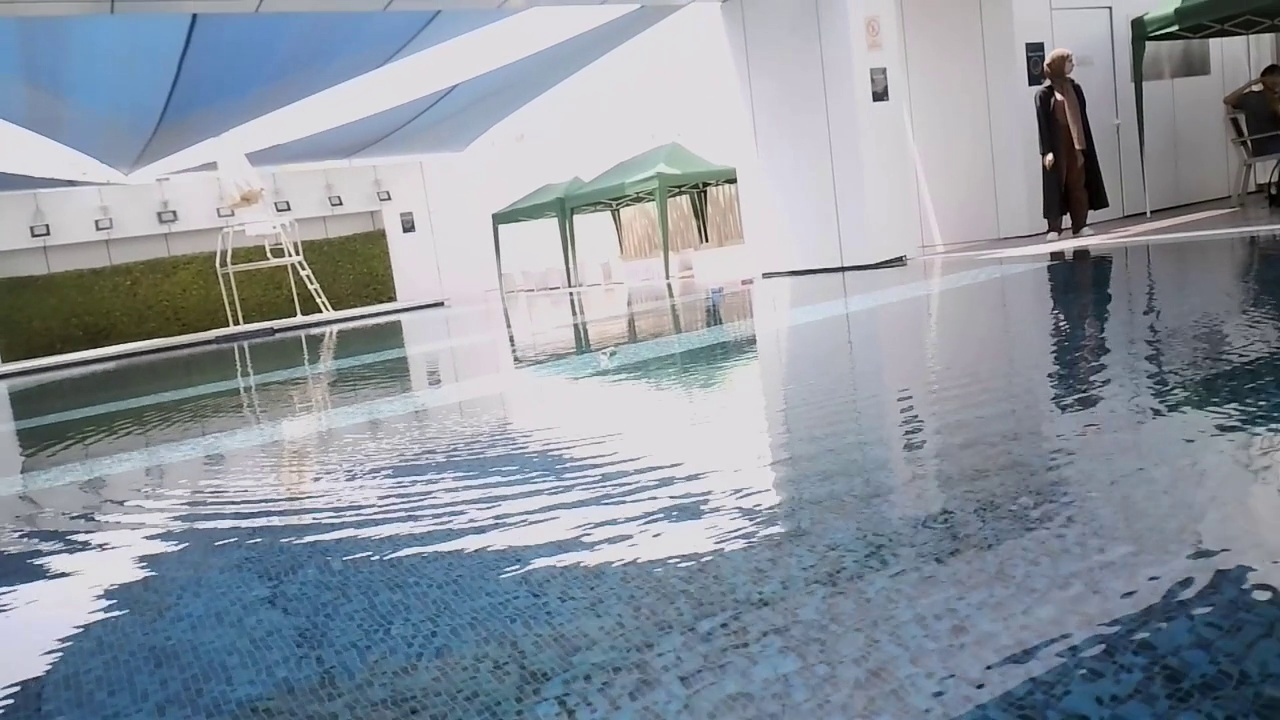debris: (598, 342, 619, 361), (707, 282, 726, 296), (738, 275, 755, 287)
